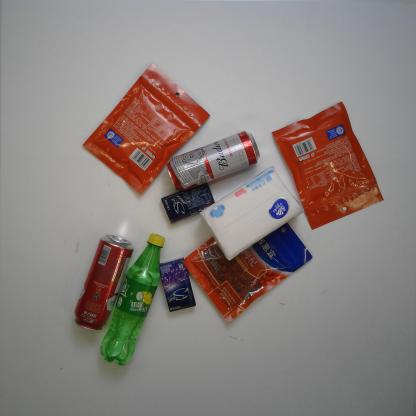Alcohol: (73, 233, 135, 334), (164, 130, 261, 192)
Dried Fruit: (81, 62, 212, 196), (270, 101, 385, 231), (182, 221, 314, 325)
Drink: (99, 232, 167, 367)
Gum: (160, 182, 216, 226), (158, 256, 197, 314)
Tissue: (199, 165, 305, 262)
